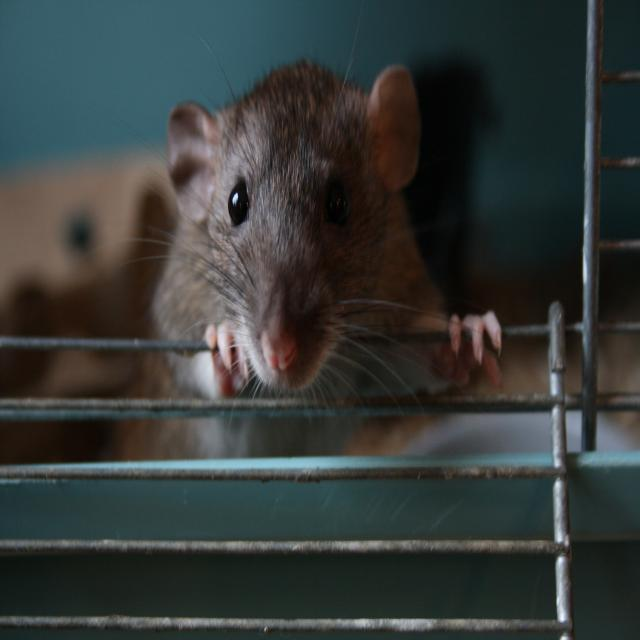rat: (163, 56, 483, 427)
